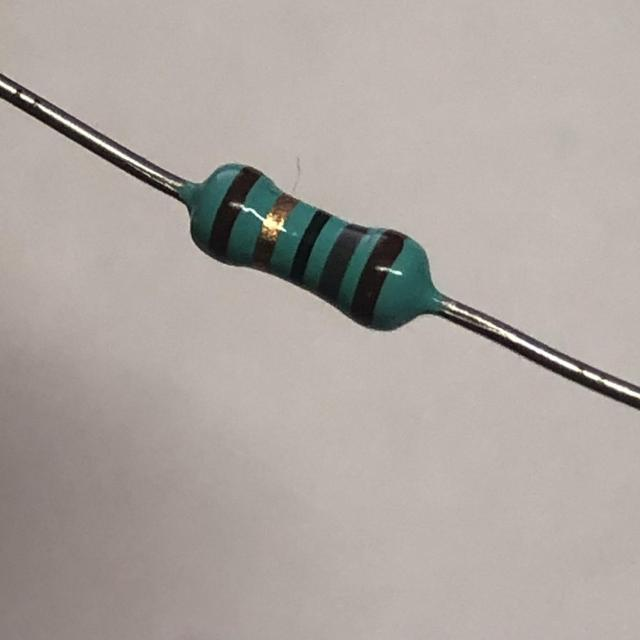Resistor: (179, 164, 442, 330)
black: (289, 209, 333, 287)
brown: (350, 229, 405, 327), (209, 166, 261, 263)
gold: (253, 191, 300, 272)
purple: (318, 223, 368, 305)
